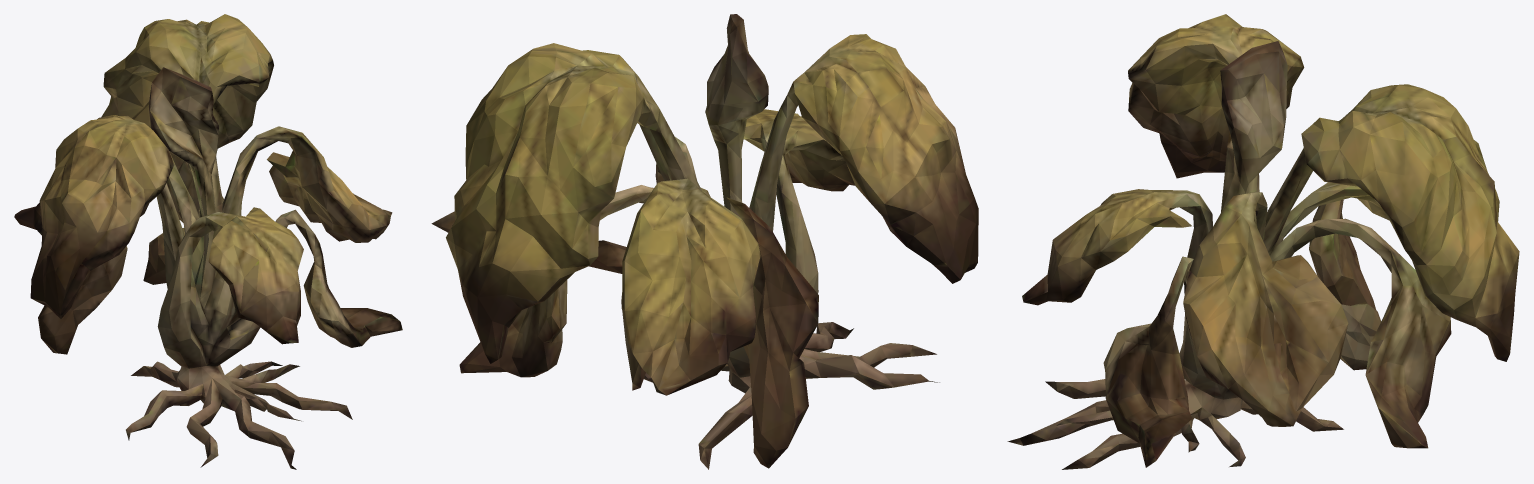
Rendered from P_Bocai_03.obj.
3 renders of one model, left to right at view 1: azimuth 30°, elevation 25°; view 2: azimuth 150°, elevation 25°; view 3: azimuth 270°, elevation 25°, orthographic. The views are drawn at different scales.
Size of the model in its own units: 0.5994 by 0.4823 by 0.5699.
Materials: 1 (1 with a texture image).
